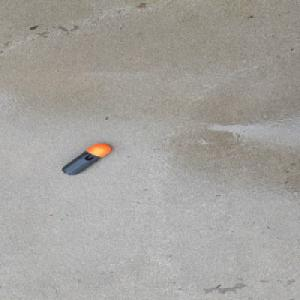PlasticPart: (61, 143, 112, 175)
